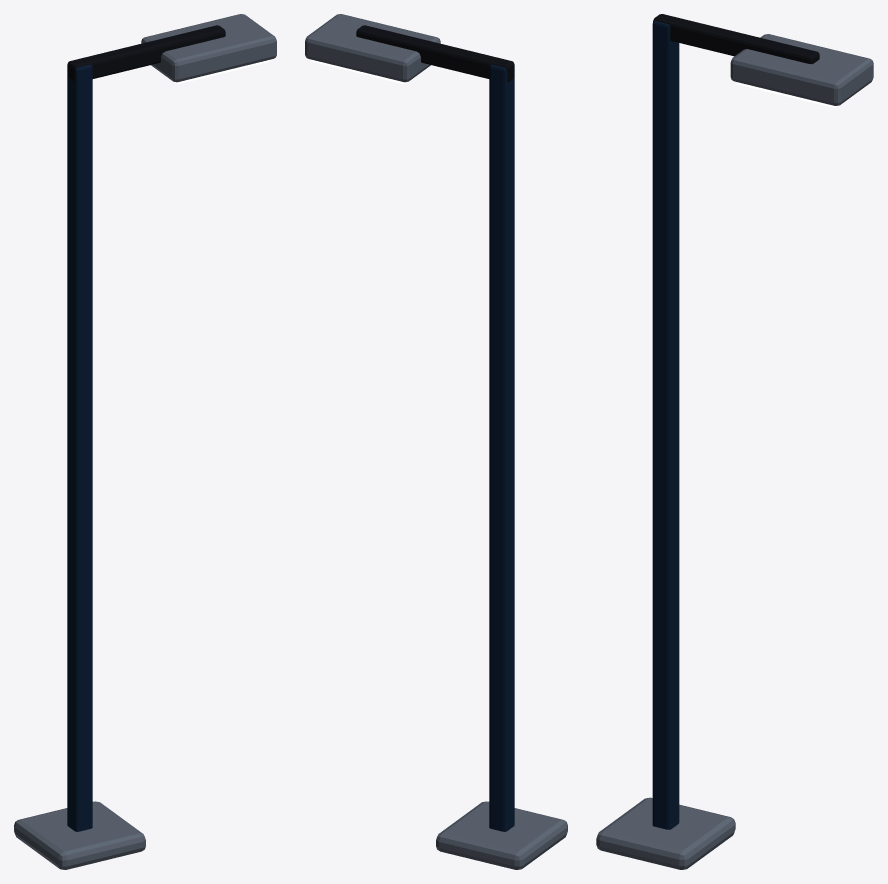
Rendered from rt_pure_white_streetlight.glb.
The picture shows the model from 3 angles, left to right: view 1: azimuth 30°, elevation 25°; view 2: azimuth 150°, elevation 25°; view 3: azimuth 330°, elevation 25°; orthographic projection. The views are drawn at different scales.
Visible parts, largest first — view 1: rt_pure_white_streetlight; view 2: rt_pure_white_streetlight; view 3: rt_pure_white_streetlight.
Boxes of the visible parts, left/top/right/bottom form: rt_pure_white_streetlight: left=14, top=14, right=276, bottom=869; rt_pure_white_streetlight: left=305, top=14, right=567, bottom=869; rt_pure_white_streetlight: left=596, top=14, right=873, bottom=869.
Bounding box in the file's own units: 1.55 × 5.16 × 0.6.
